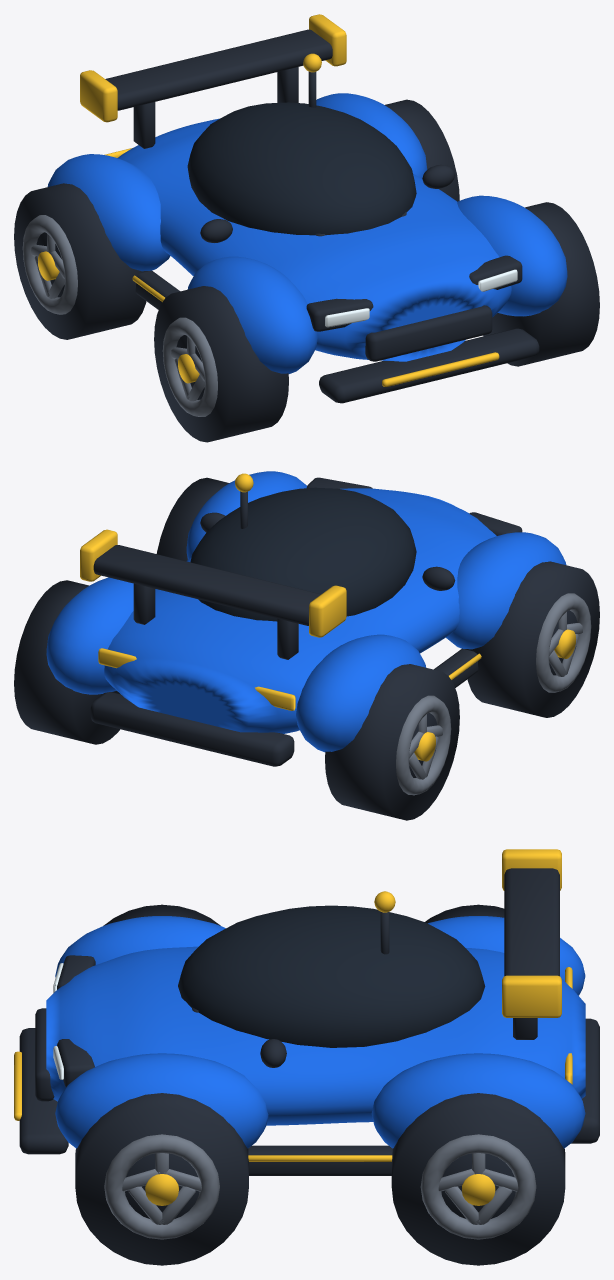
Rendered from BlueRallyRC.fbx.
3 views of the same model, one above another, from view 1: azimuth 30°, elevation 25°; view 2: azimuth 150°, elevation 25°; view 3: azimuth 270°, elevation 25° (orthographic). The views are drawn at different scales.
Visible parts, largest first — view 1: BodyShell, Canopy, Wheel_FL, Wheel_RL, RearWing, AeroKit, Wheel_FR, Headlights, Wheel_RR, RCDetails; view 2: BodyShell, Canopy, Wheel_RL, Wheel_FL, RearWing, Wheel_RR, AeroKit, RCDetails, Wheel_FR, Headlights; view 3: BodyShell, Canopy, Wheel_RR, Wheel_FR, AeroKit, RearWing, Headlights, RCDetails, Wheel_FL, Wheel_RL.
Part boxes in pixels (bbox=[...]): BodyShell: bbox=[47, 93, 567, 373]; Canopy: bbox=[187, 102, 416, 235]; Wheel_FL: bbox=[154, 286, 288, 442]; Wheel_RL: bbox=[14, 183, 148, 339]; RearWing: bbox=[80, 14, 346, 148]; AeroKit: bbox=[132, 270, 539, 403]; Wheel_FR: bbox=[483, 202, 599, 366]; Headlights: bbox=[306, 255, 522, 331]; Wheel_RR: bbox=[385, 99, 459, 201]; RCDetails: bbox=[104, 53, 454, 242]; BodyShell: bbox=[46, 471, 566, 752]; Canopy: bbox=[190, 487, 416, 621]; Wheel_RL: bbox=[325, 664, 459, 820]; Wheel_FL: bbox=[465, 561, 599, 717]; RearWing: bbox=[80, 529, 346, 659]; Wheel_RR: bbox=[14, 580, 119, 744]; AeroKit: bbox=[90, 648, 481, 766]; RCDetails: bbox=[98, 473, 455, 710]; Wheel_FR: bbox=[156, 477, 229, 561]; Headlights: bbox=[306, 477, 522, 535]; BodyShell: bbox=[46, 916, 585, 1148]; Canopy: bbox=[178, 905, 485, 1047]; Wheel_RR: bbox=[391, 1093, 565, 1265]; Wheel_FR: bbox=[75, 1093, 248, 1265]; AeroKit: bbox=[14, 1008, 599, 1175]; RearWing: bbox=[502, 849, 561, 1039]; Headlights: bbox=[53, 955, 95, 1087]; RCDetails: bbox=[192, 891, 572, 1084]; Wheel_FL: bbox=[103, 904, 220, 925]; Wheel_RL: bbox=[425, 904, 504, 923].
Bounding box in the file's own units: 2.25 × 1.44 × 2.63.
